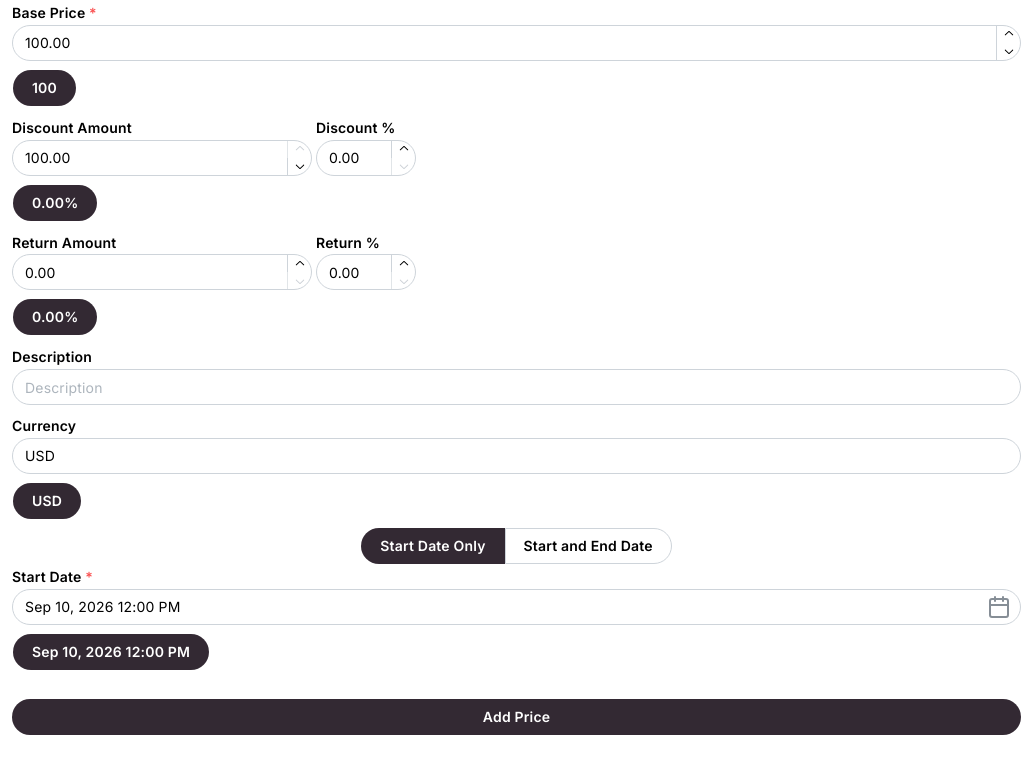
Test: Add Price Form Component › should block adding a price that ends before it starts
Click the button "Start and End Date" at x=588, y=546, box x1=505 y1=528 x2=672 y2=564
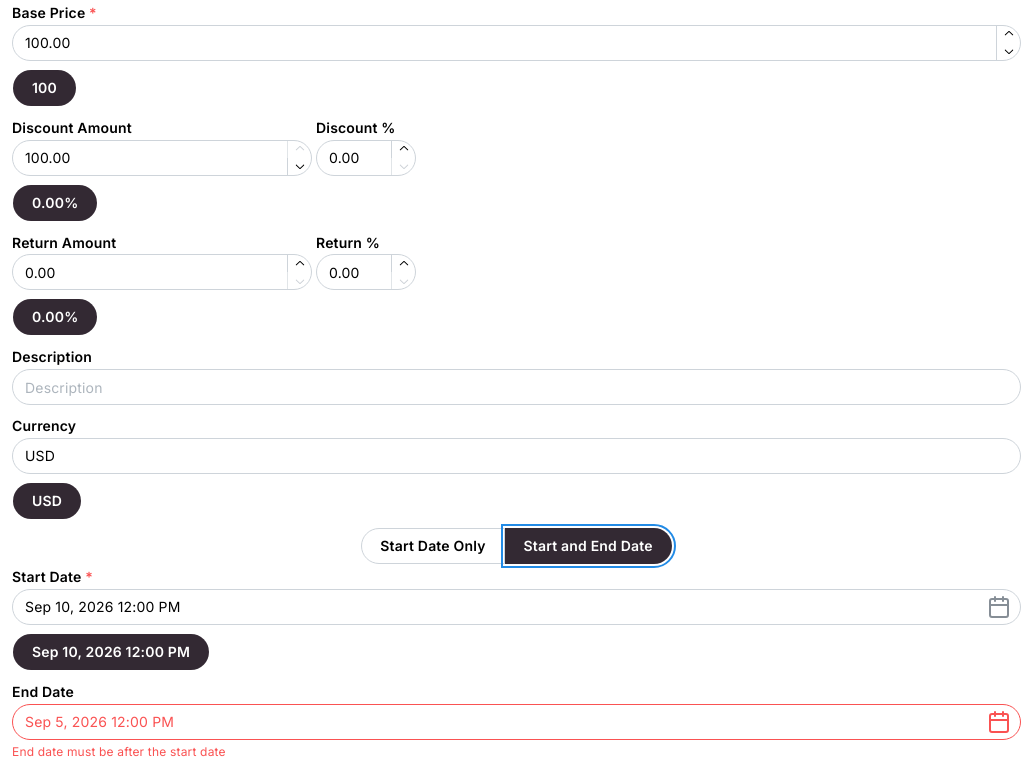
Expected: the text "End date must be after the start date" is shown, x1=12 y1=744 x2=226 y2=759
# The end date is ignored when only adding a start date
Click the button "Start Date Only" at x=433, y=546, box x1=361 y1=528 x2=505 y2=564
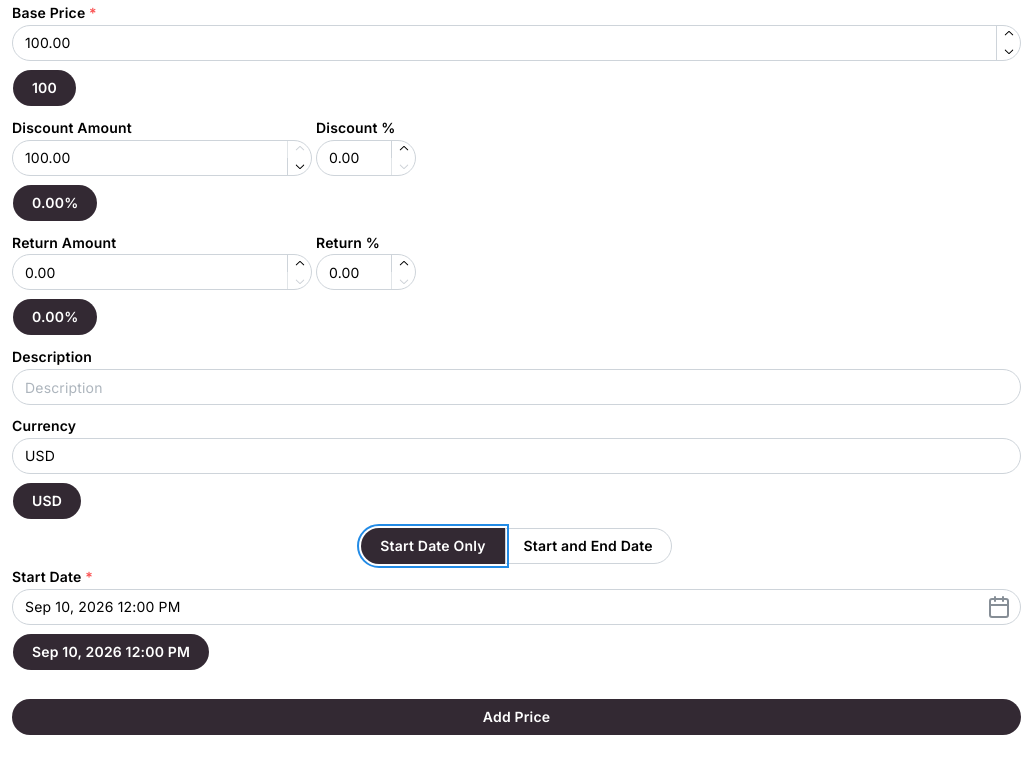
Expected: the text "End date must be after the start date" is gone
Expected: the button "Add Price" is enabled, x1=12 y1=699 x2=1021 y2=735
